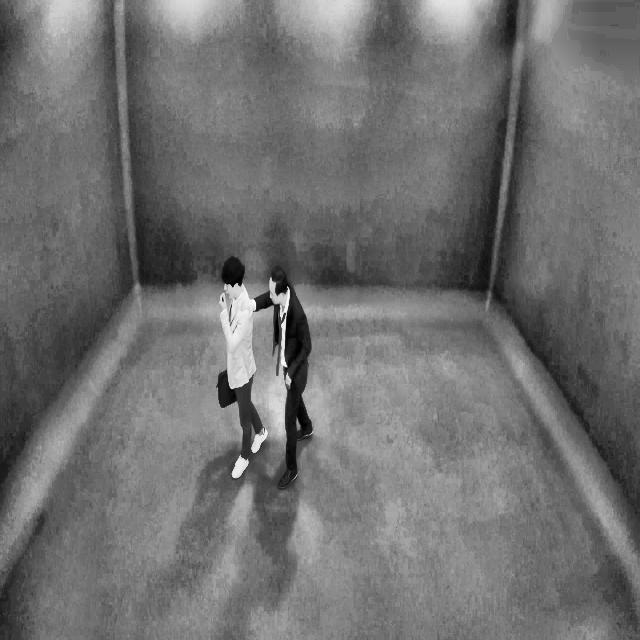assult: (207, 250, 309, 504)
